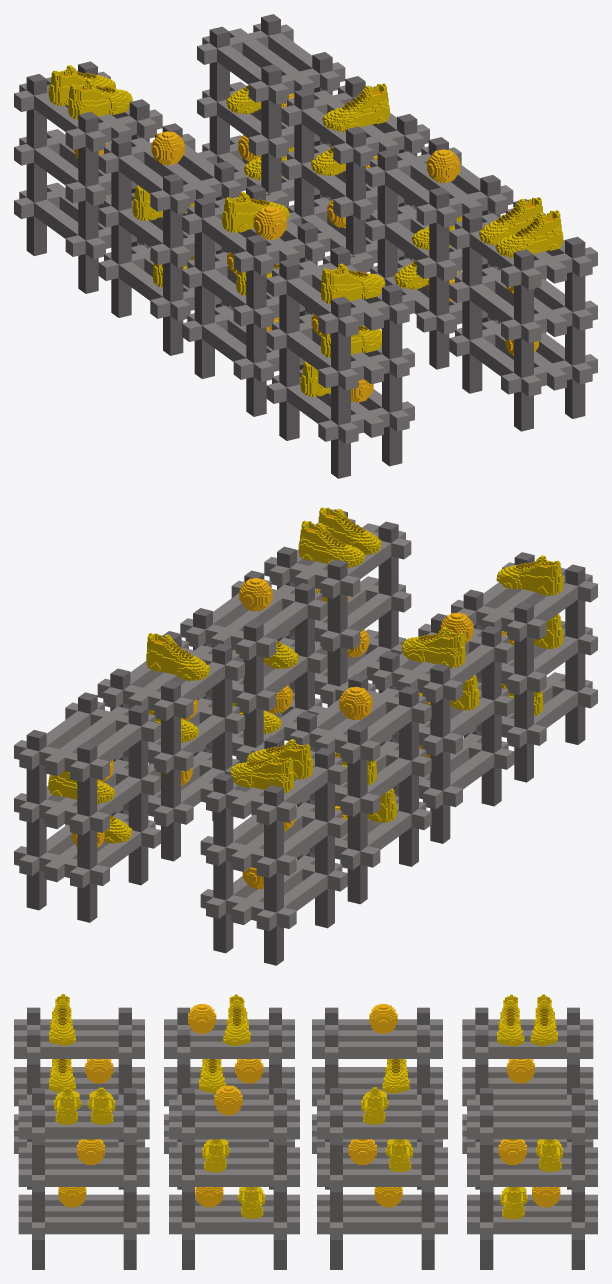
The model's file is Aisle.fbx.
The picture shows the model from 3 angles, top to bottom: view 1: azimuth 30°, elevation 25°; view 2: azimuth 150°, elevation 25°; view 3: azimuth 270°, elevation 25°; orthographic projection. The views are drawn at different scales.
Visible parts, largest first — view 1: Untitled; view 2: Untitled; view 3: Untitled.
Boxes of the visible parts, <box> form: Untitled: <box>14,14,597,478</box>; Untitled: <box>14,507,597,965</box>; Untitled: <box>14,994,597,1269</box>.
Size of the model in its own units: 351 by 236 by 727.
